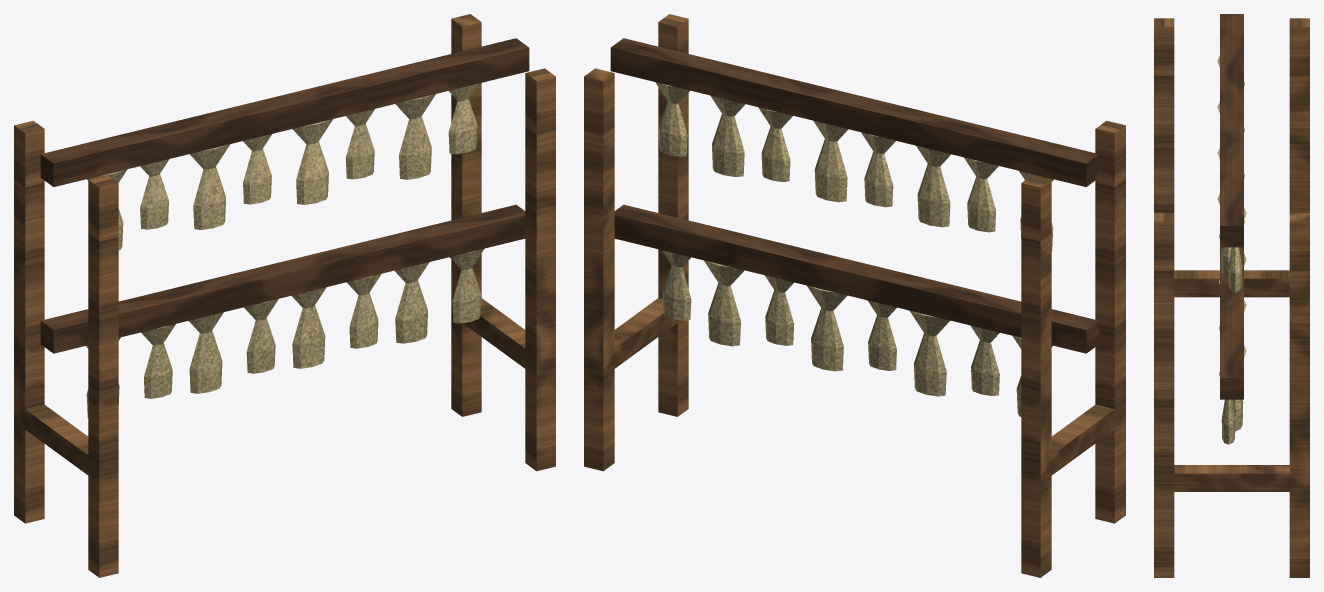
File: fish_rack.fbx
3 views of the same model, side by side, from view 1: azimuth 30°, elevation 25°; view 2: azimuth 150°, elevation 25°; view 3: azimuth 270°, elevation 25° (orthographic). The views are drawn at different scales.
Parts seen in each view (by area): view 1: fish_rack; view 2: fish_rack; view 3: fish_rack.
Part boxes in pixels (left/top/right/bottom): fish_rack: left=14, top=14, right=555, bottom=577; fish_rack: left=584, top=14, right=1125, bottom=577; fish_rack: left=1154, top=14, right=1309, bottom=577.
Size of the model in its own units: 148 by 116 by 46.
